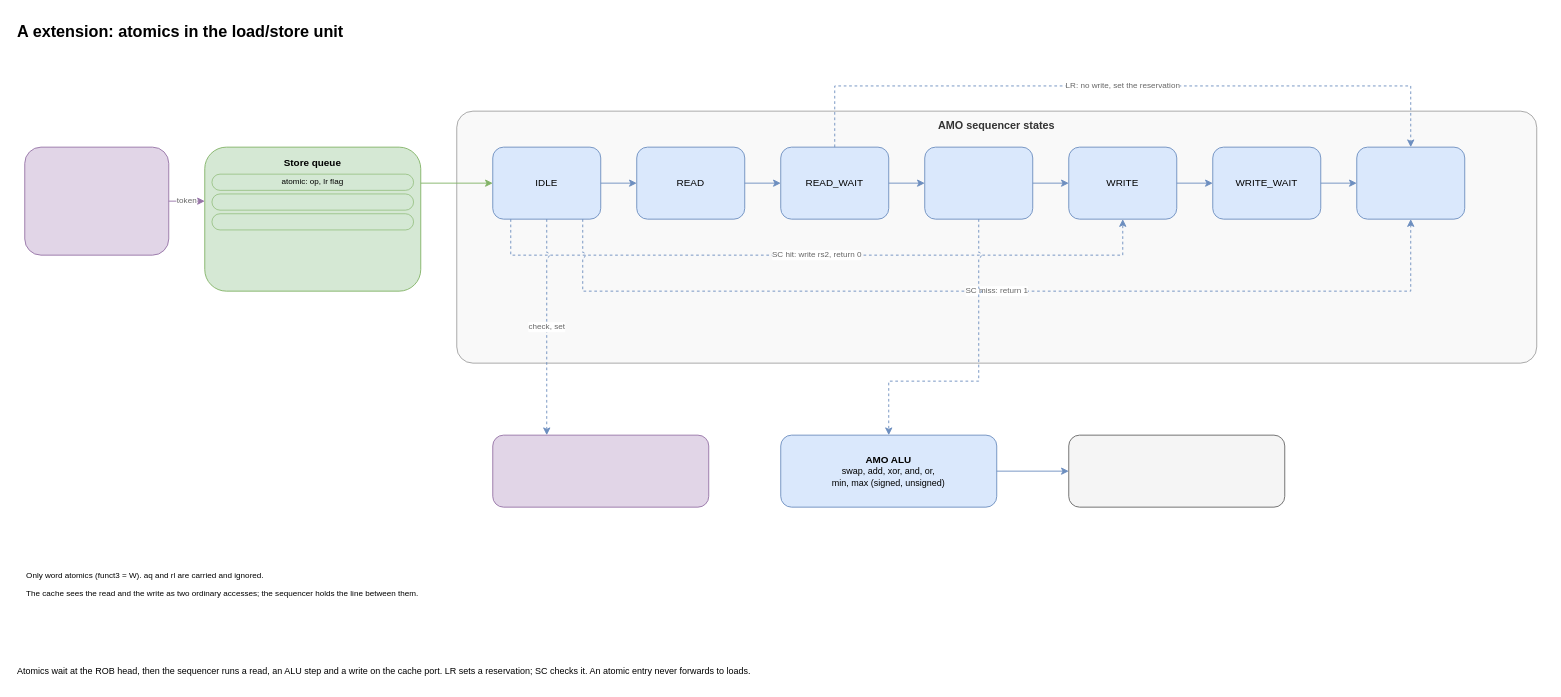
Some shapes in this 1561 by 697 pixel diagram are drawn without their labels. Each missing label, with the centre of its shape:
CALC: pixel 978 182
DONE: pixel 1410 182
Reservation valid, word address: pixel 600 470
Result register old value, then CDB: pixel 1176 470
ROB head address resolved: pixel 96 200
